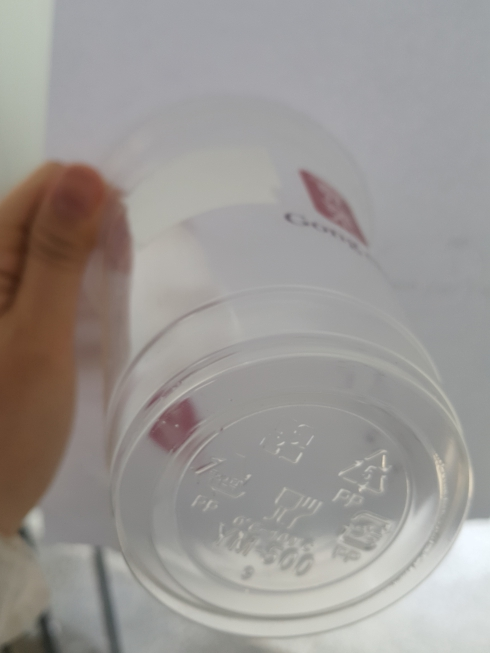recycle: (331, 439, 393, 511)
